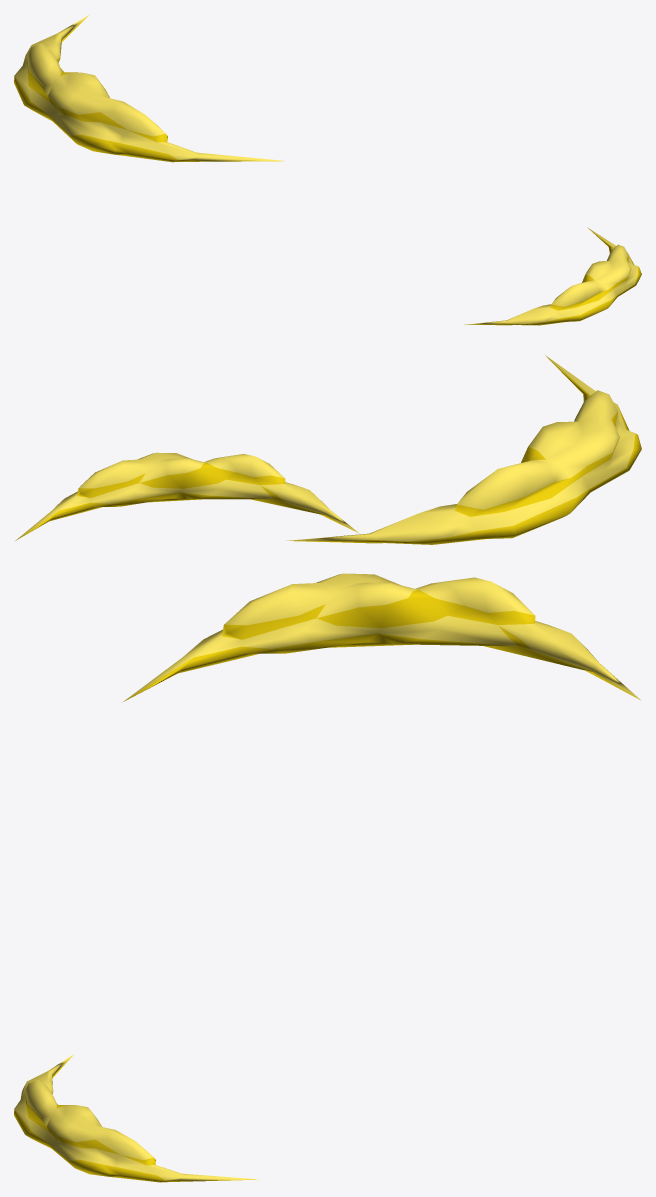
The model's file is Clouds_004.fbx.
3 renders of one model, top to bottom at view 1: azimuth 30°, elevation 25°; view 2: azimuth 150°, elevation 25°; view 3: azimuth 270°, elevation 25°, orthographic. The views are drawn at different scales.
Parts seen in each view (by area): view 1: cloud:Clouds; view 2: cloud:Clouds; view 3: cloud:Clouds.
Part boxes in pixels (bbox=[...]): cloud:Clouds: bbox=[14, 15, 641, 325]; cloud:Clouds: bbox=[14, 355, 641, 544]; cloud:Clouds: bbox=[14, 573, 640, 1182].
Size of the model in its own units: 742 by 336 by 617.
